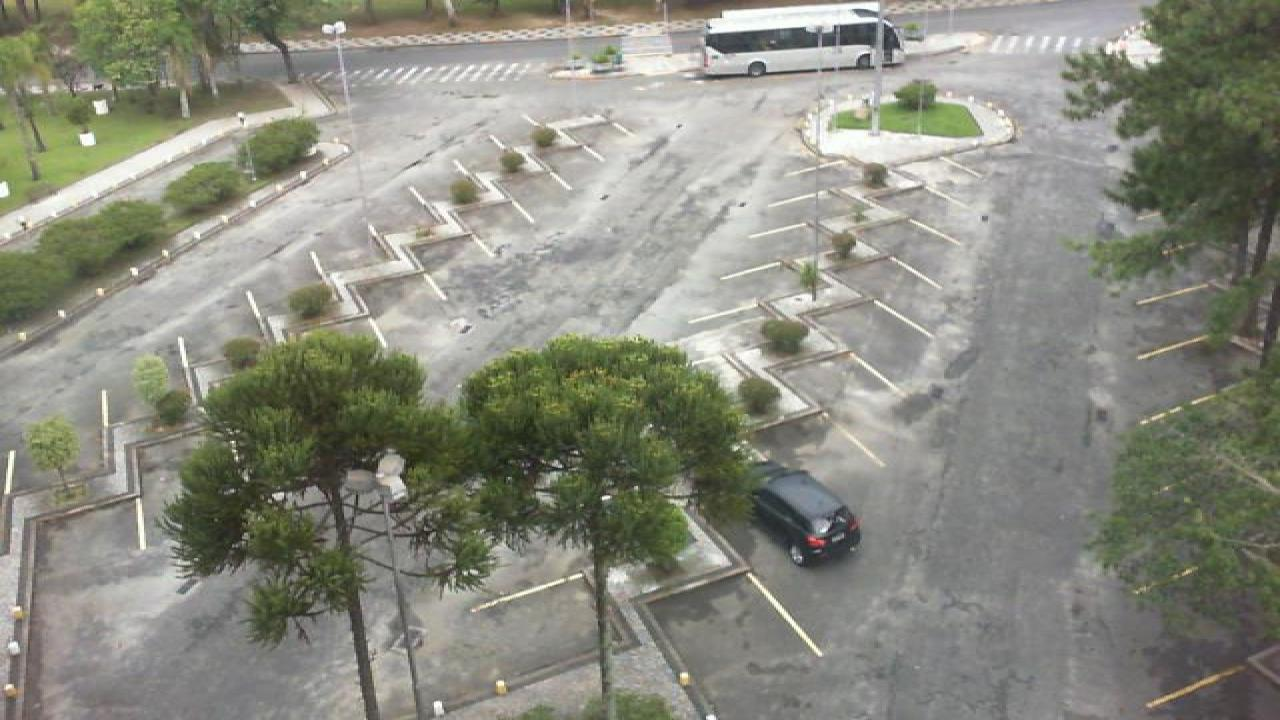Car: (750, 460, 866, 569)
